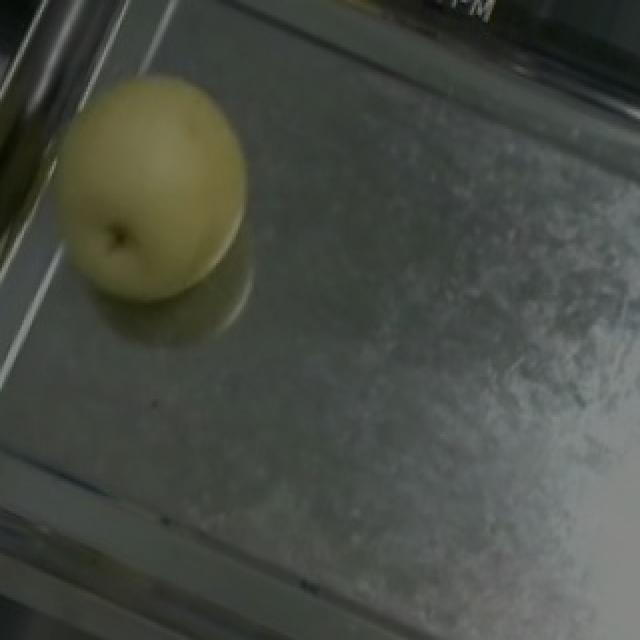Fruit: (4, 25, 298, 352)
